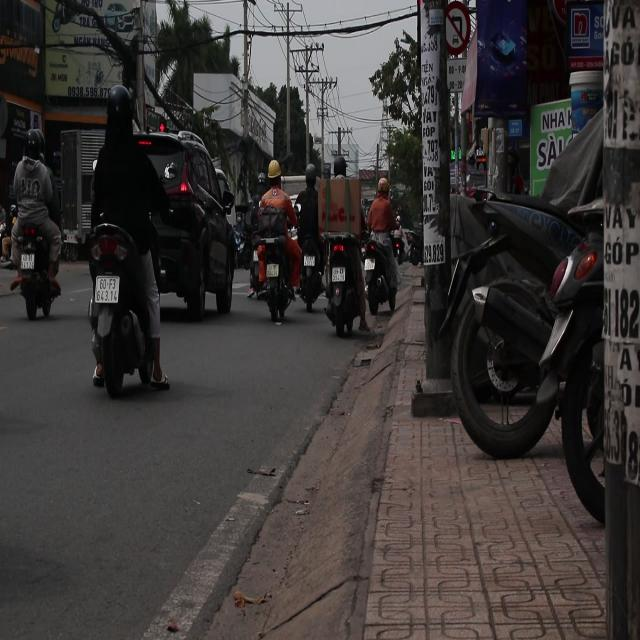car: (135, 132, 237, 318)
motorbike: (84, 223, 171, 395), (250, 228, 302, 326), (320, 234, 369, 336), (9, 223, 60, 320)
